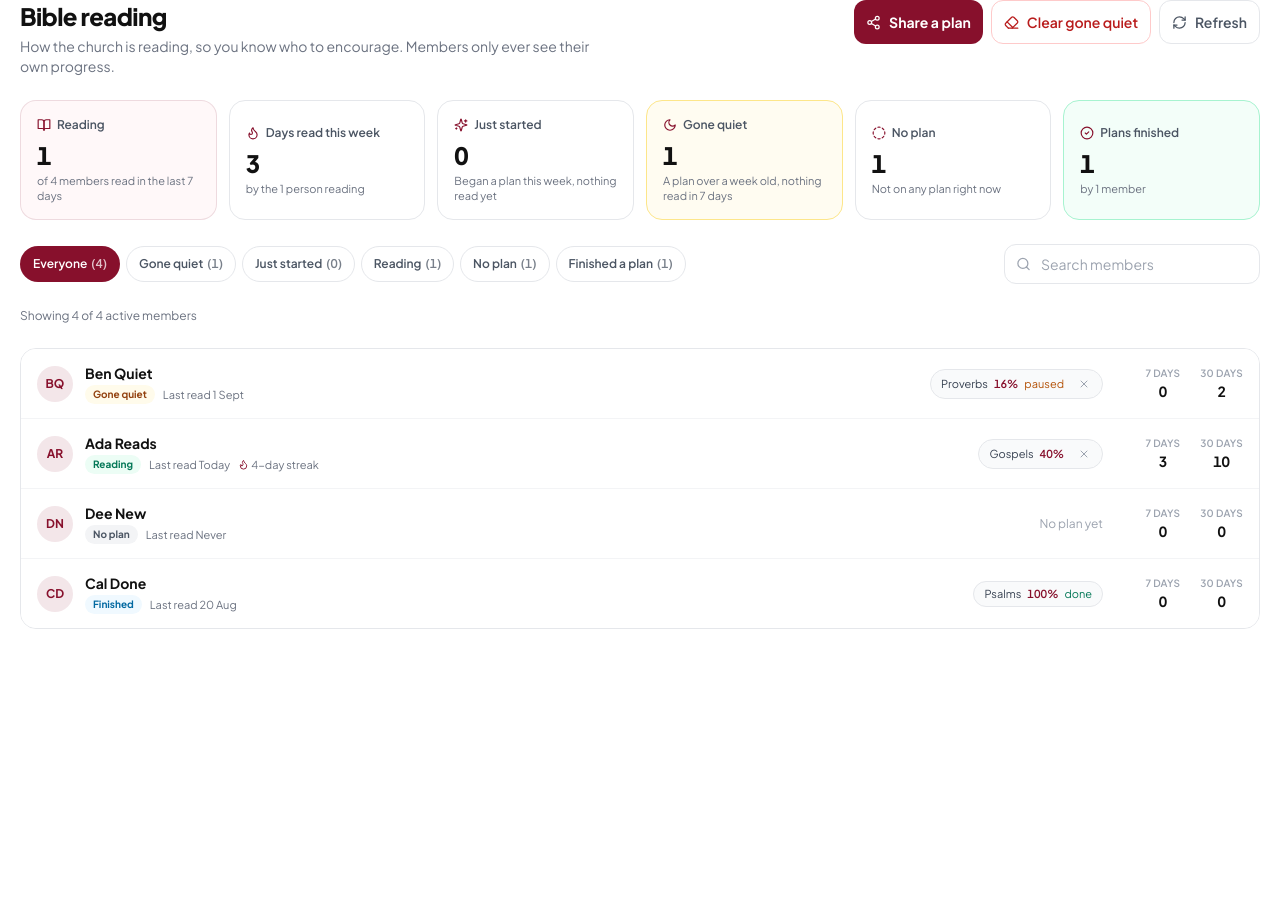
clearing gone quiet › says so when gone quiet changed before the admin confirmed
The width and height of the screenshot is (1280, 900).
Step 1. Click the button "Clear gone quiet" → x=1071, y=22, box [991,0,1151,44]
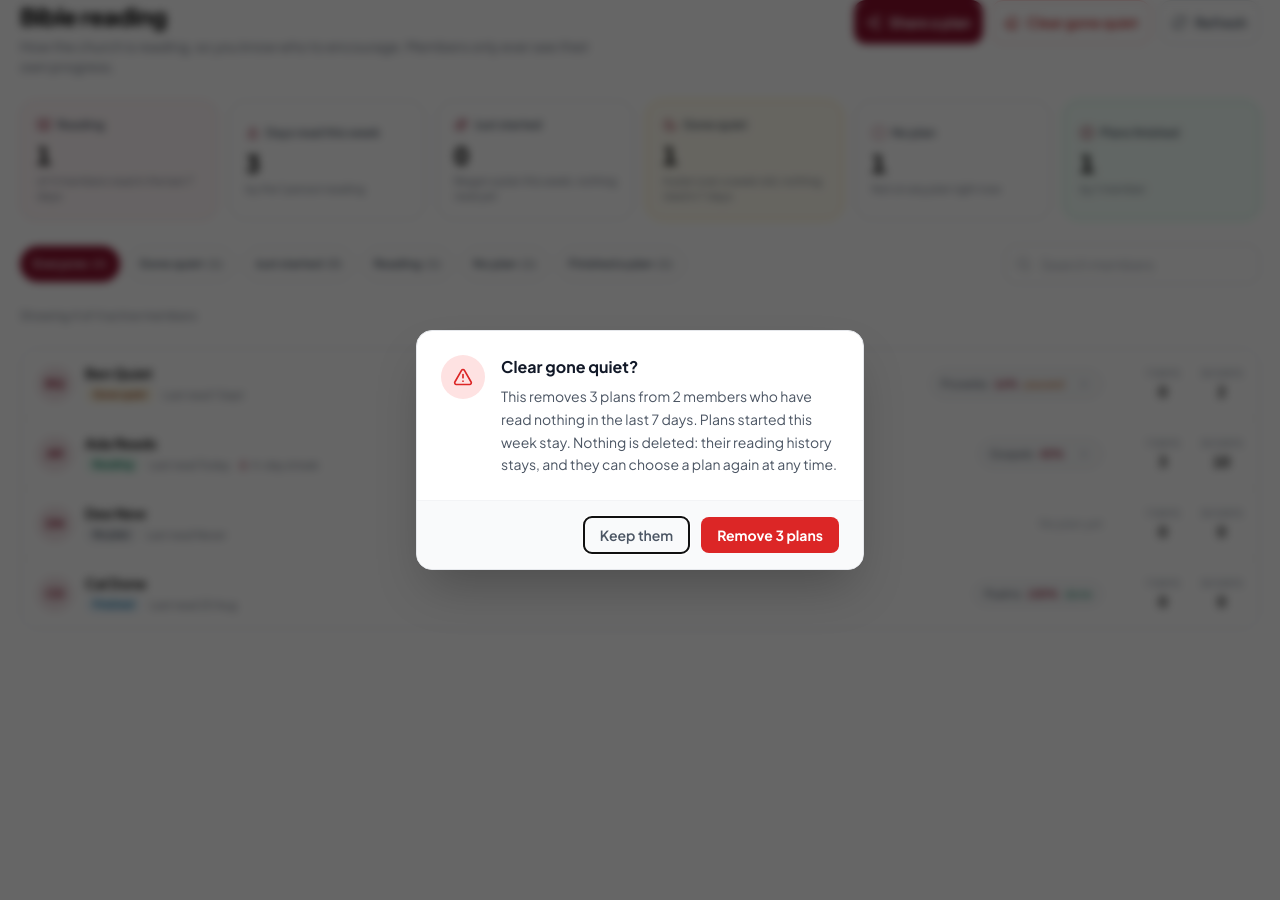
Step 2. Click the button "Remove 3 plans" → x=770, y=535, box [701,517,839,553]
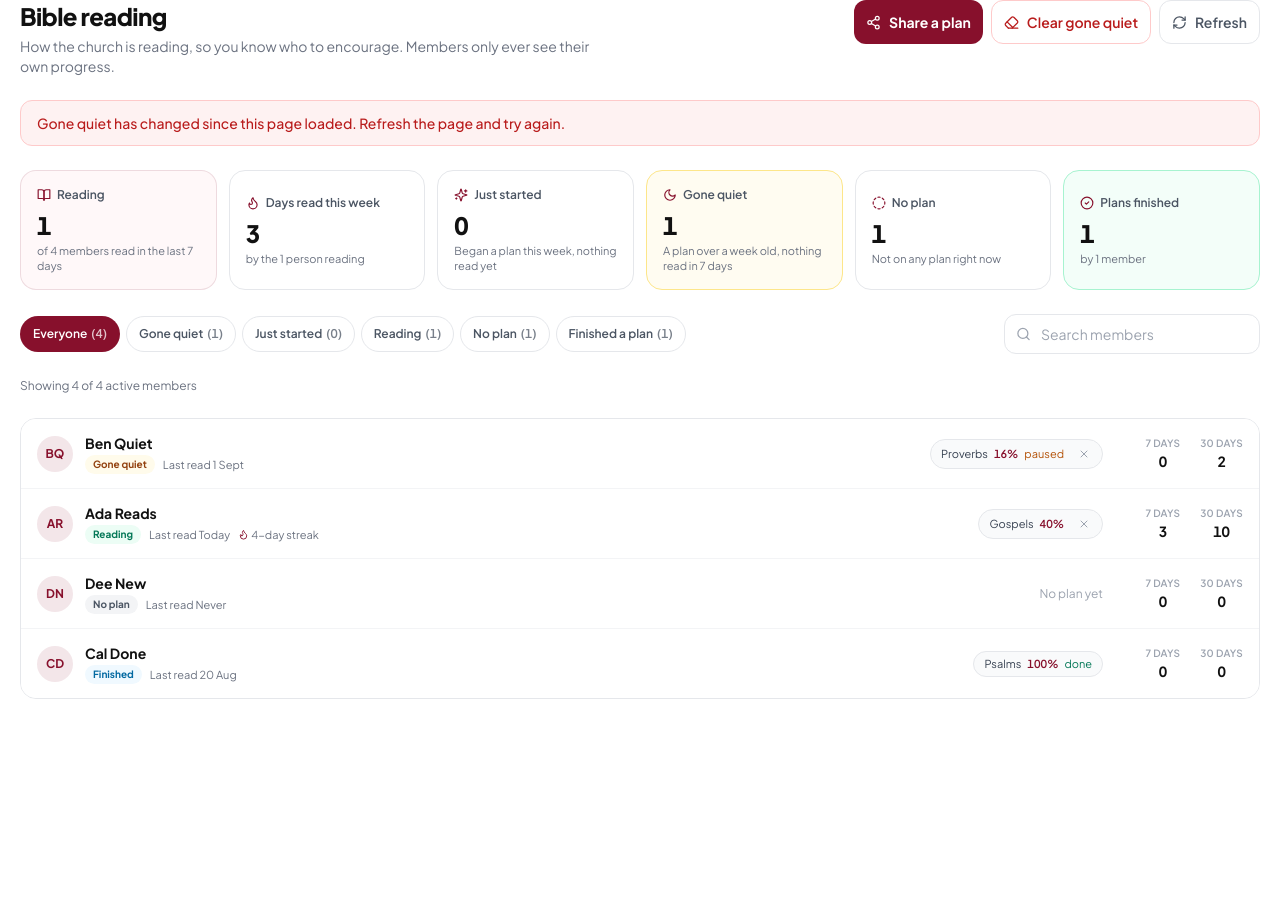
expect the message "Gone quiet has changed since this page loaded. Refresh the page and try again." is shown: met, box [20,100,1260,146]
